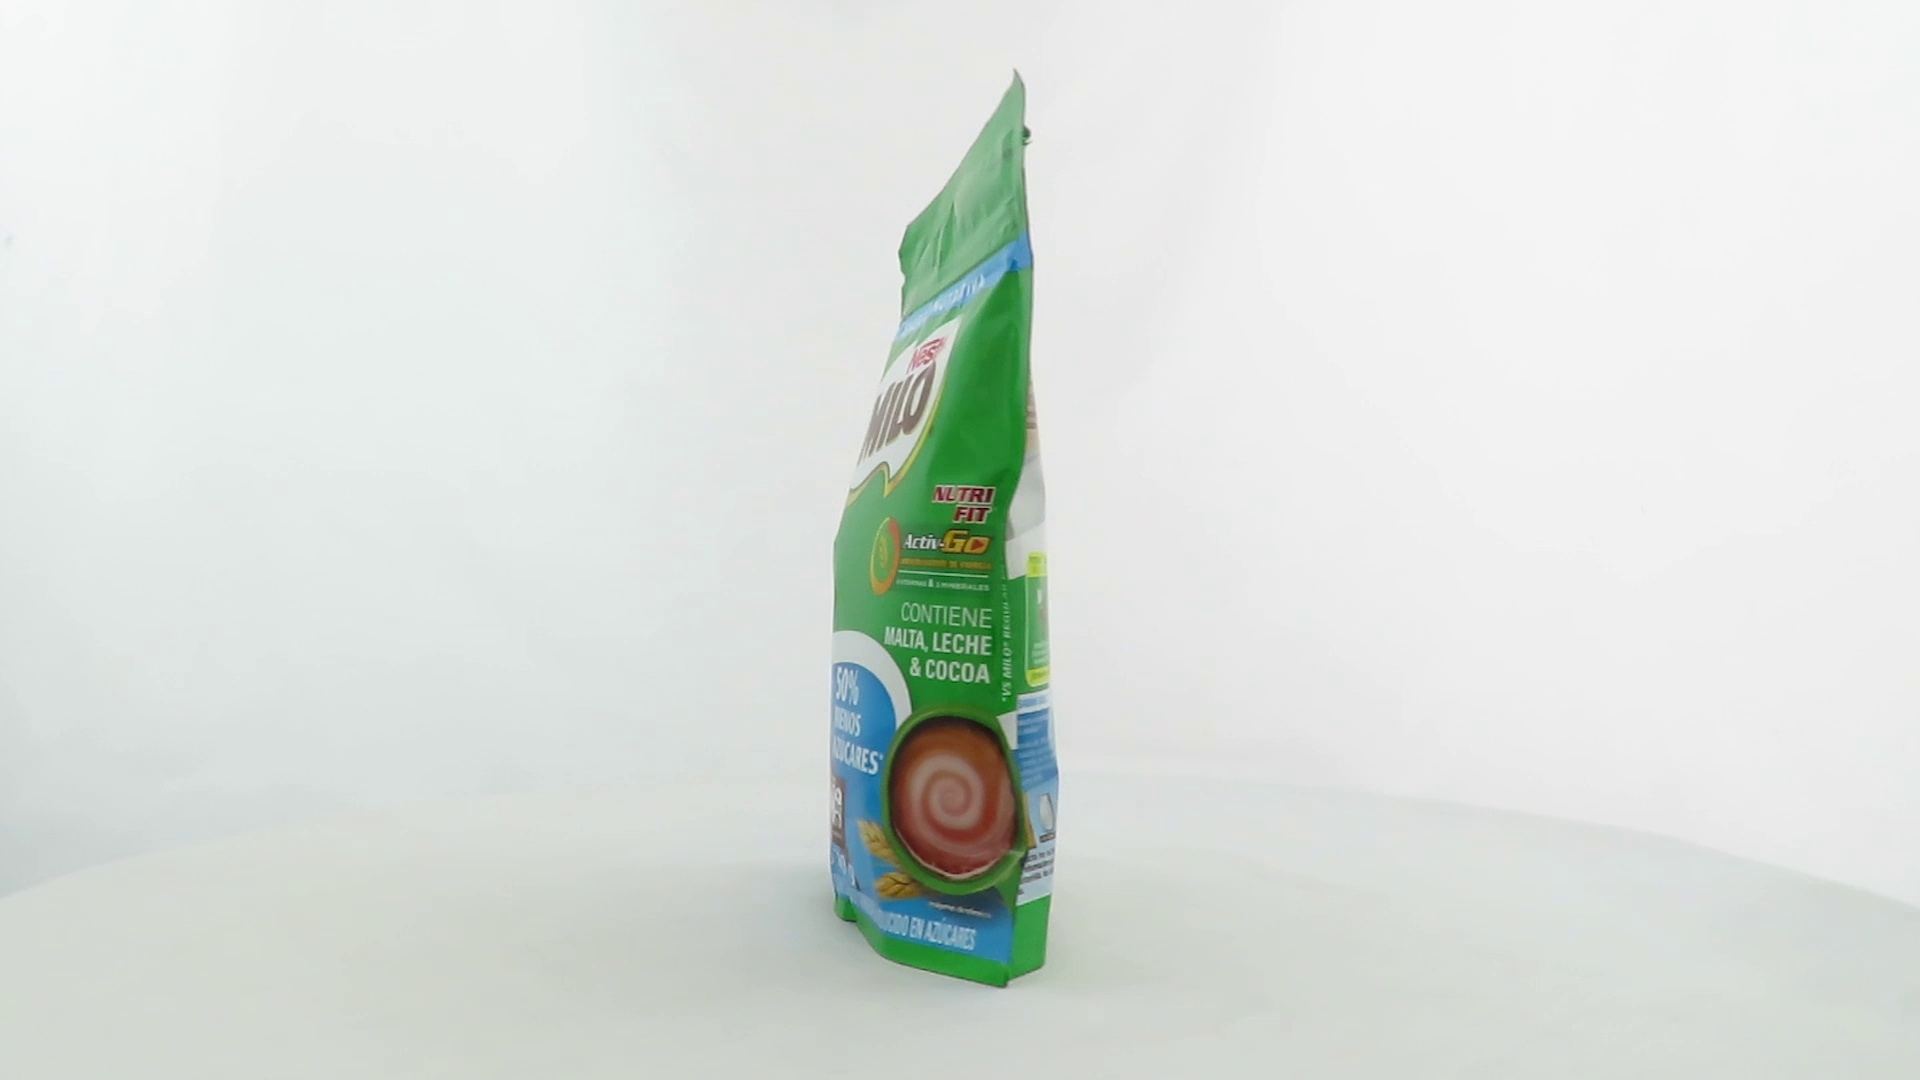COL0170205DYP20000: (824, 63, 1065, 996)
